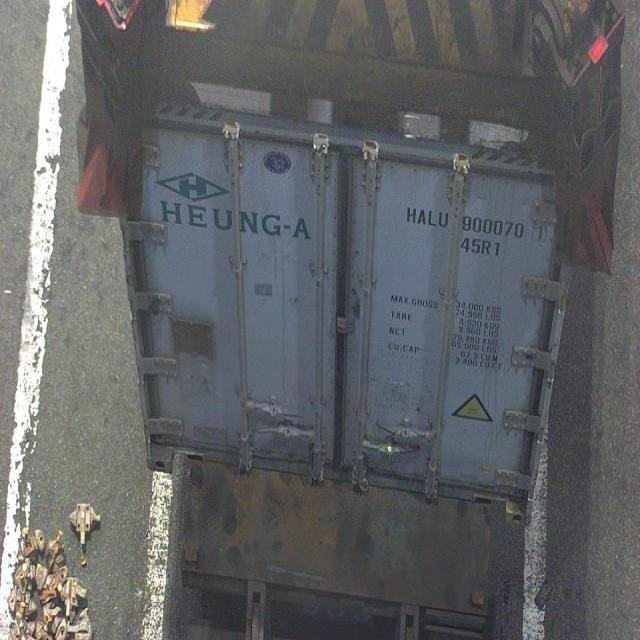ISO: (461, 234, 503, 262)
container_number: (401, 203, 552, 244)
